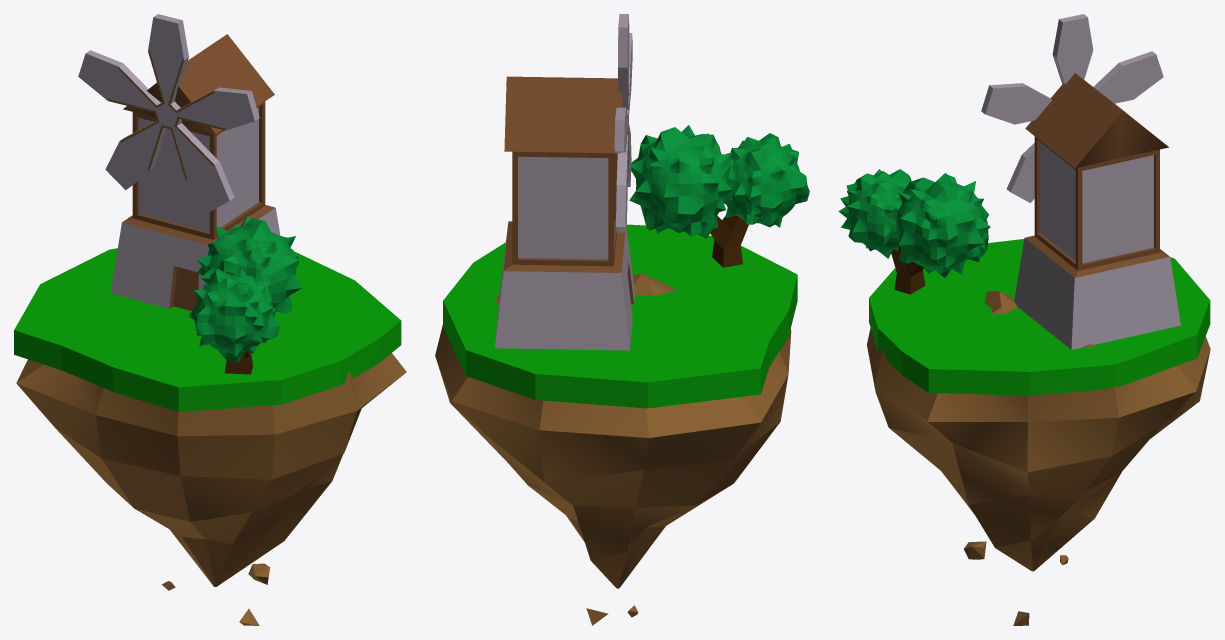
Rendered from island.dae.
3 views of the same model, side by side, from view 1: azimuth 30°, elevation 25°; view 2: azimuth 150°, elevation 25°; view 3: azimuth 270°, elevation 25° (orthographic). The views are drawn at different scales.
Visible parts, largest first — view 1: Island, Green_platform, Mill, propeller, Tree; view 2: Island, Green_platform, Mill, Tree, propeller; view 3: Island, Mill, Green_platform, Tree, propeller.
Boxes of the visible parts, x1,y1,x2,y2 form: Island: (16,353,406,625); Green_platform: (14,248,401,411); Mill: (110,34,280,310); propeller: (78,14,259,211); Tree: (189,215,301,374); Island: (435,273,791,625); Green_platform: (443,224,797,408); Mill: (495,76,634,350); Tree: (629,125,809,267); propeller: (614,14,632,232); Island: (867,291,1210,625); Mill: (1014,73,1180,349); Green_platform: (869,239,1210,395); Tree: (838,169,990,294); propeller: (981,14,1163,202).
Bounding box in the file's own units: 1.05 × 1.95 × 1.13.
